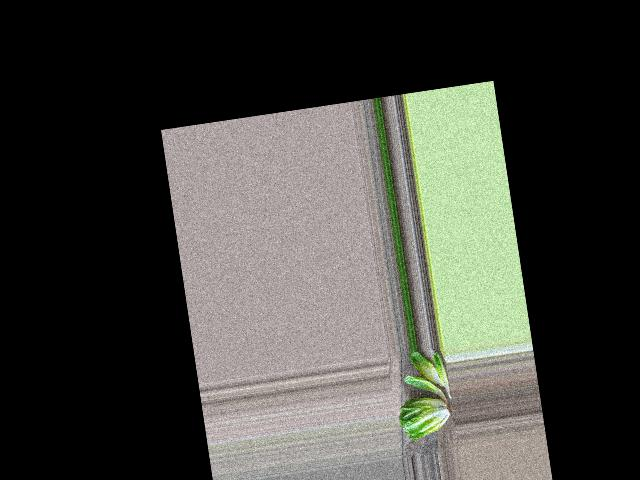lettuce: (396, 391, 452, 442)
